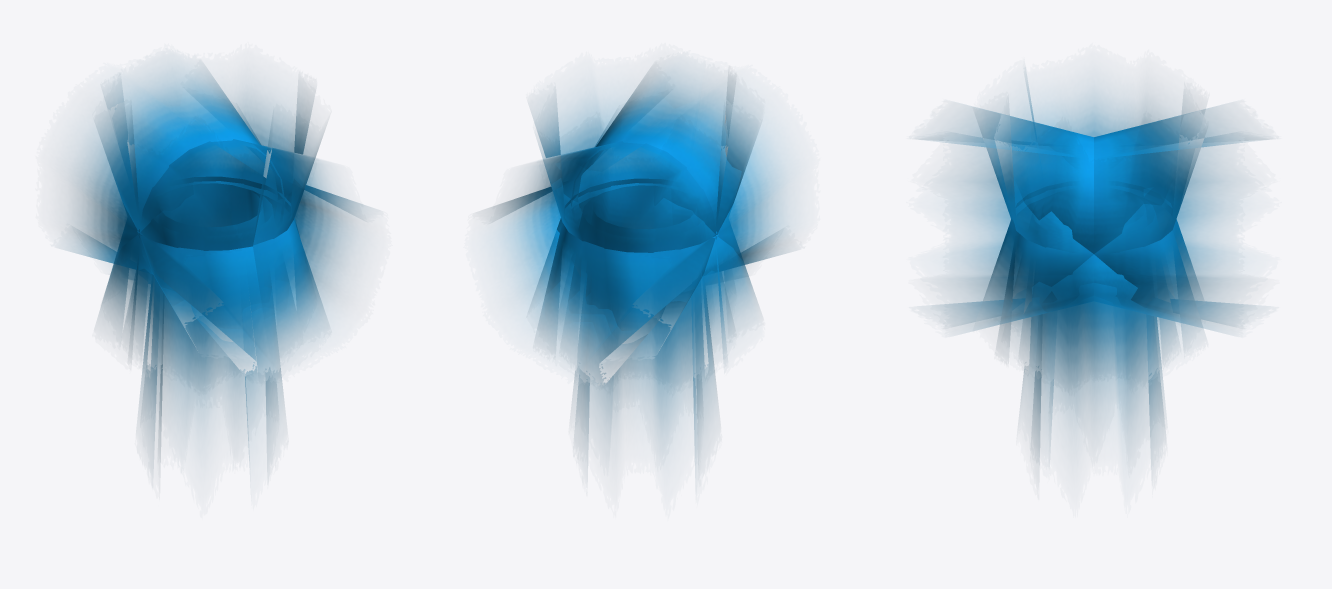
Rendered from holo2.glb.
3 views of the same model, side by side, from view 1: azimuth 30°, elevation 25°; view 2: azimuth 150°, elevation 25°; view 3: azimuth 270°, elevation 25° (orthographic).
Parts seen in each view (by area): view 1: beam, beam.in.001, beam.in; view 2: beam, beam.in.001, beam.in; view 3: beam, beam.in.001, beam.in.
Boxes of the visible parts, left/top/right/bottom form: beam: left=67, top=67, right=365, bottom=370; beam.in.001: left=139, top=183, right=283, bottom=461; beam.in: left=126, top=189, right=288, bottom=358; beam: left=490, top=67, right=788, bottom=372; beam.in.001: left=573, top=185, right=717, bottom=464; beam.in: left=568, top=191, right=728, bottom=360; beam: left=919, top=74, right=1268, bottom=352; beam.in.001: left=1021, top=191, right=1164, bottom=463; beam.in: left=1018, top=195, right=1176, bottom=357.
Bounding box in the file's own units: 1.38 × 3.01 × 2.45.
1 material, 1 textured.
